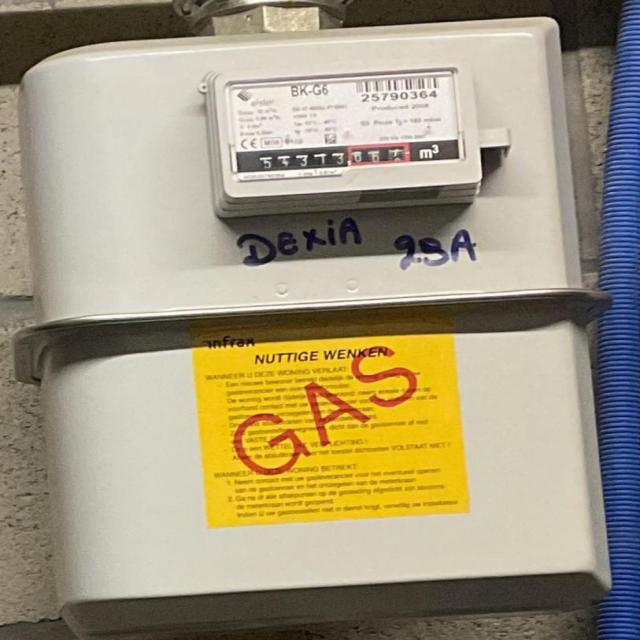gaz_meter: (226, 72, 460, 178)
indication: (246, 141, 412, 172)
